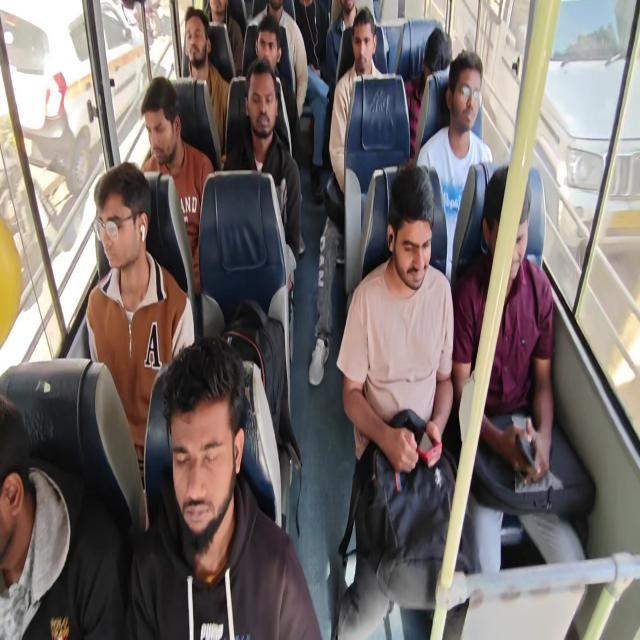person: (127, 335, 322, 639), (452, 164, 596, 574), (335, 162, 458, 638), (86, 162, 196, 489), (0, 394, 128, 639), (308, 8, 386, 386), (223, 59, 303, 361), (416, 49, 493, 283), (139, 75, 215, 298), (247, 14, 306, 255), (328, 8, 384, 193), (285, 0, 330, 202), (182, 6, 230, 158), (250, 0, 308, 119), (404, 27, 452, 157), (204, 0, 243, 76), (325, 0, 357, 86)
